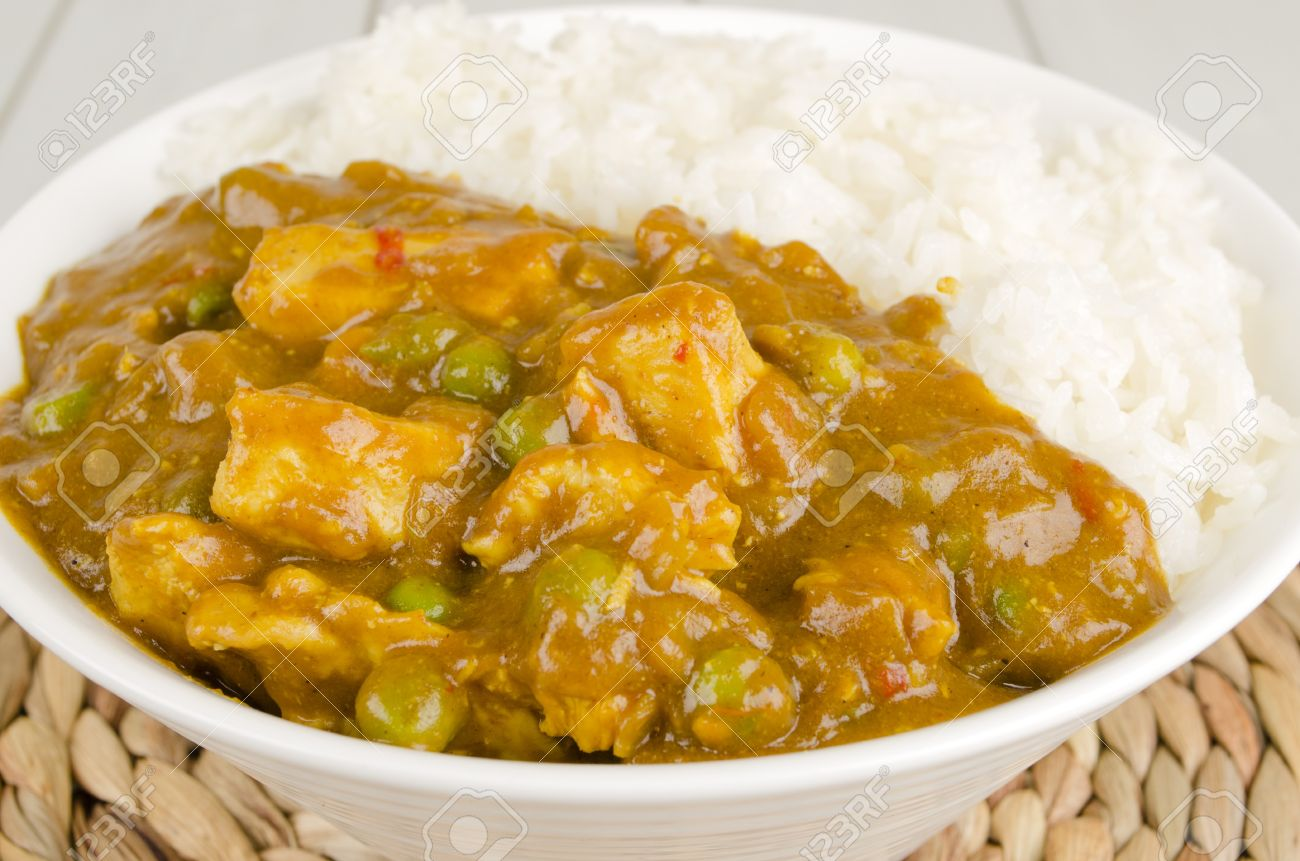curry: (154, 200, 969, 736), (46, 354, 659, 725), (616, 346, 1069, 679), (469, 223, 884, 532), (158, 191, 542, 505)
